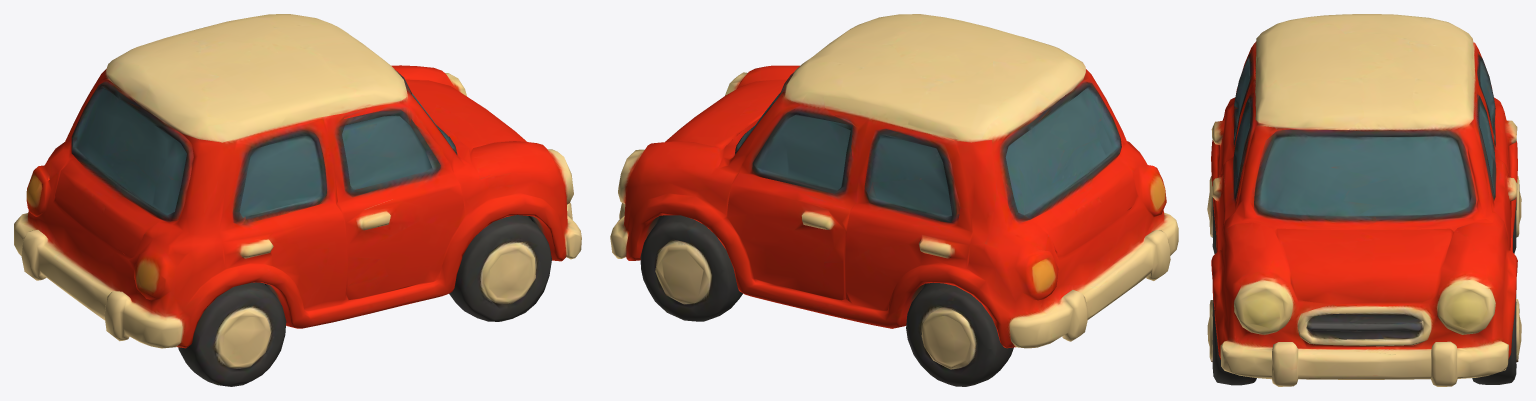
Rendered from car.glb.
3 renders of one model, left to right at view 1: azimuth 30°, elevation 25°; view 2: azimuth 150°, elevation 25°; view 3: azimuth 270°, elevation 25°, orthographic. The views are drawn at different scales.
Parts seen in each view (by area): view 1: tripo_node_5495f77a-b15c-4926-b270-92d458e9afa0; view 2: tripo_node_5495f77a-b15c-4926-b270-92d458e9afa0; view 3: tripo_node_5495f77a-b15c-4926-b270-92d458e9afa0.
Part boxes in pixels (x1=…): tripo_node_5495f77a-b15c-4926-b270-92d458e9afa0: x1=14, y1=14, x2=581, y2=386; tripo_node_5495f77a-b15c-4926-b270-92d458e9afa0: x1=610, y1=14, x2=1178, y2=386; tripo_node_5495f77a-b15c-4926-b270-92d458e9afa0: x1=1207, y1=14, x2=1521, y2=386.
Bounding box in the file's own units: 1 × 0.5257 × 0.6147.
Materials: 1 (1 with a texture image).
